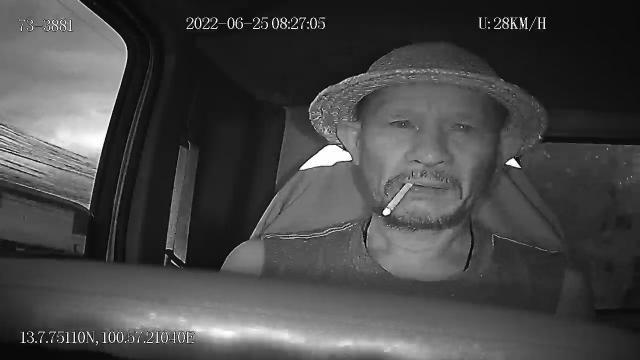SafeDriving: (441, 112, 483, 139), (382, 107, 422, 134)
Smoking: (384, 181, 414, 214)
